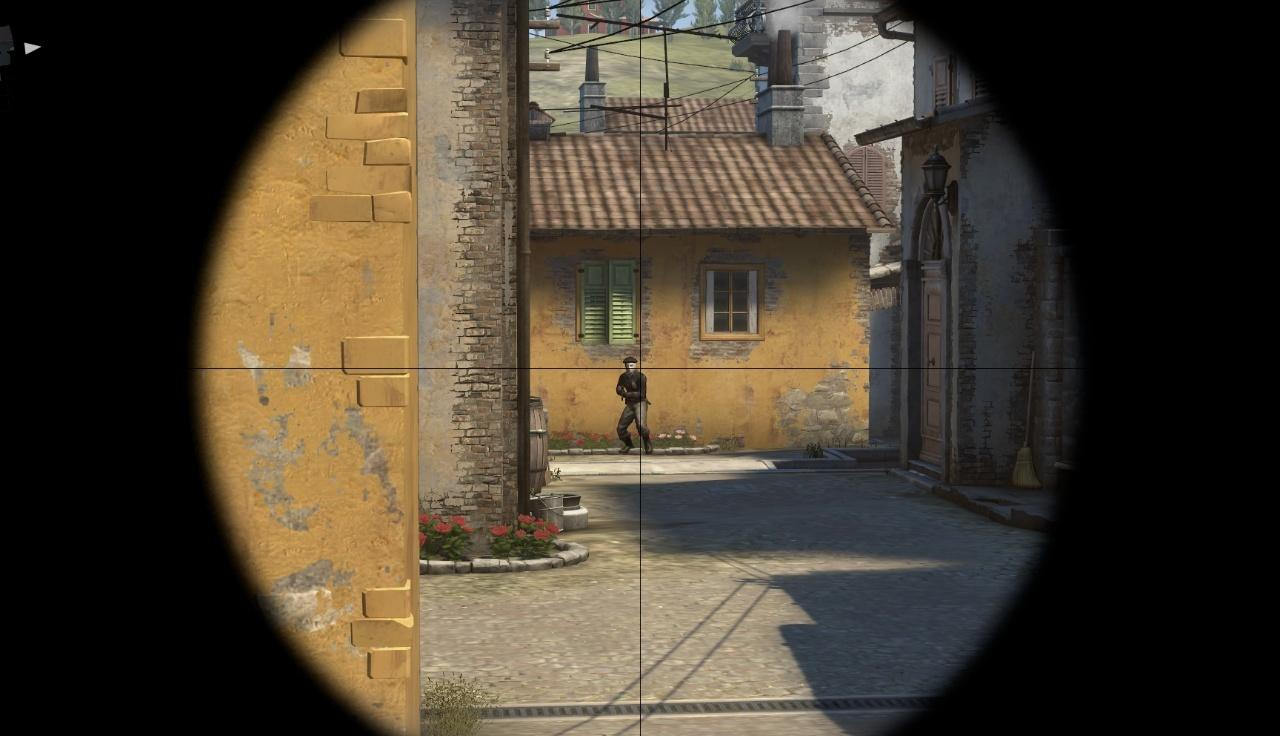tt: (614, 357, 650, 456)
tthead: (623, 357, 638, 374)
